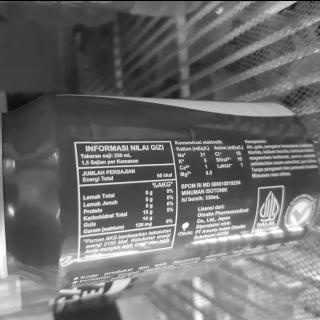alumunium_can: (0, 87, 318, 288)
